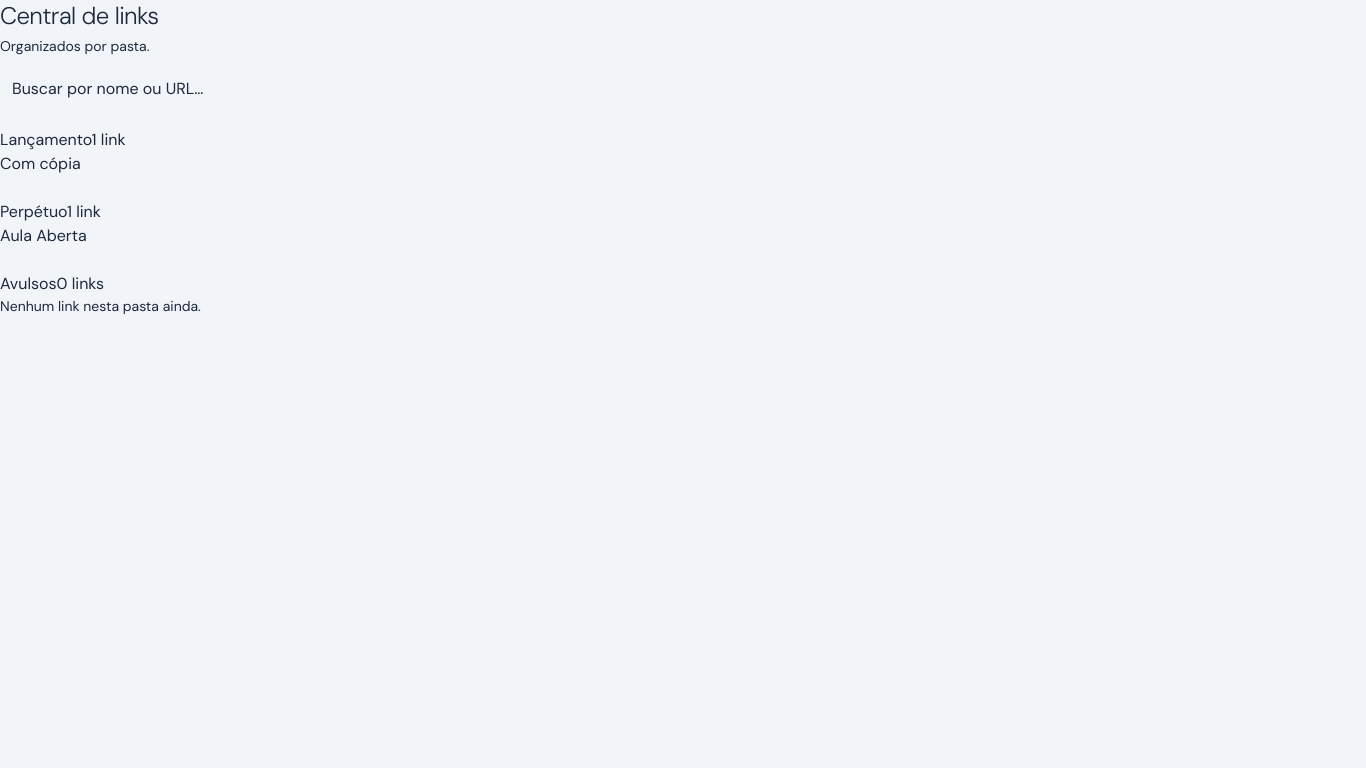
Test: Central de links: página arquivada › falha ao baixar a cópia aparece inline
The width and height of the screenshot is (1366, 768).
Expected: the element named "Pastas" is shown, [0,128,201,315]
What coordinates should you click on to do the following:
click the button "Lançamento1 link"
I would click on:
 (63, 140)
Its box is [0,128,126,152].
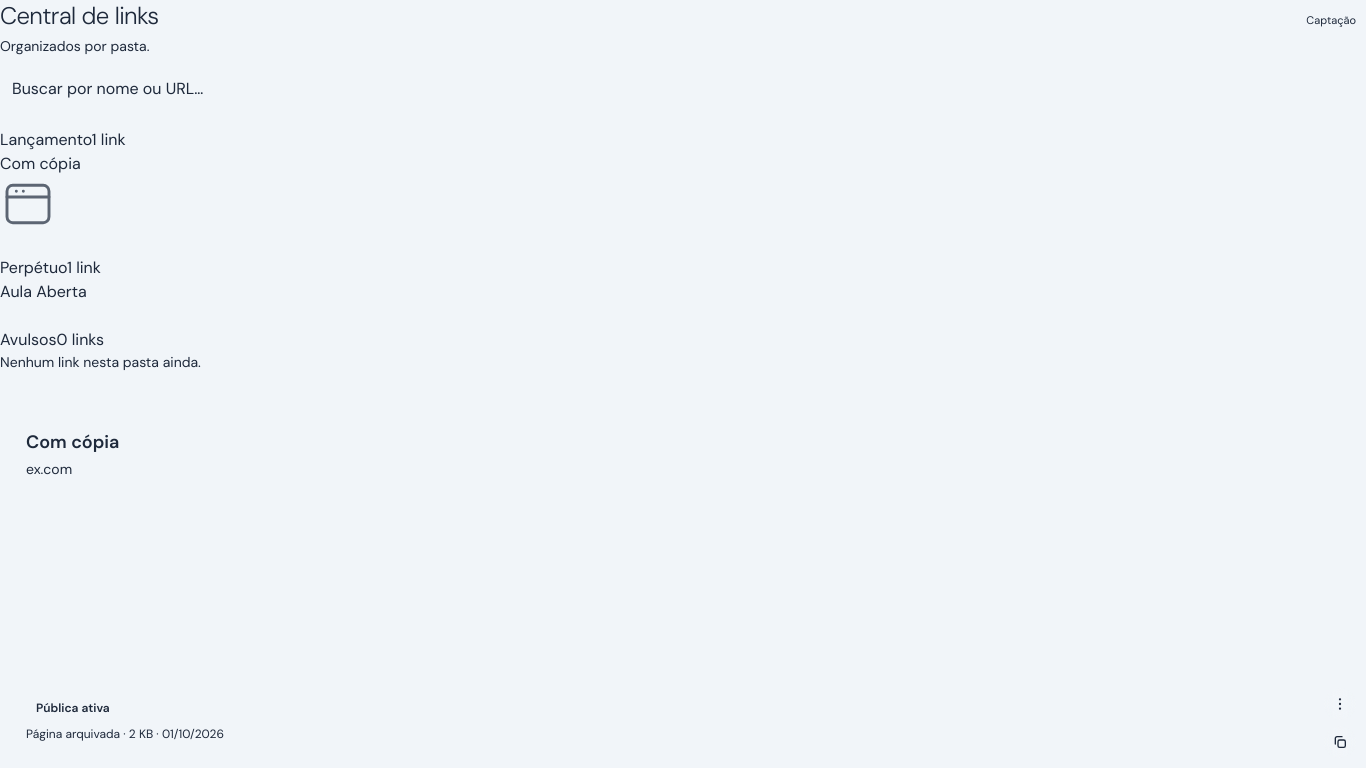
What coordinates should you click on to do the following:
click the button named "Mais ações de Com cópia"
I would click on:
 (1340, 704)
Its box is [1324,688,1356,720].
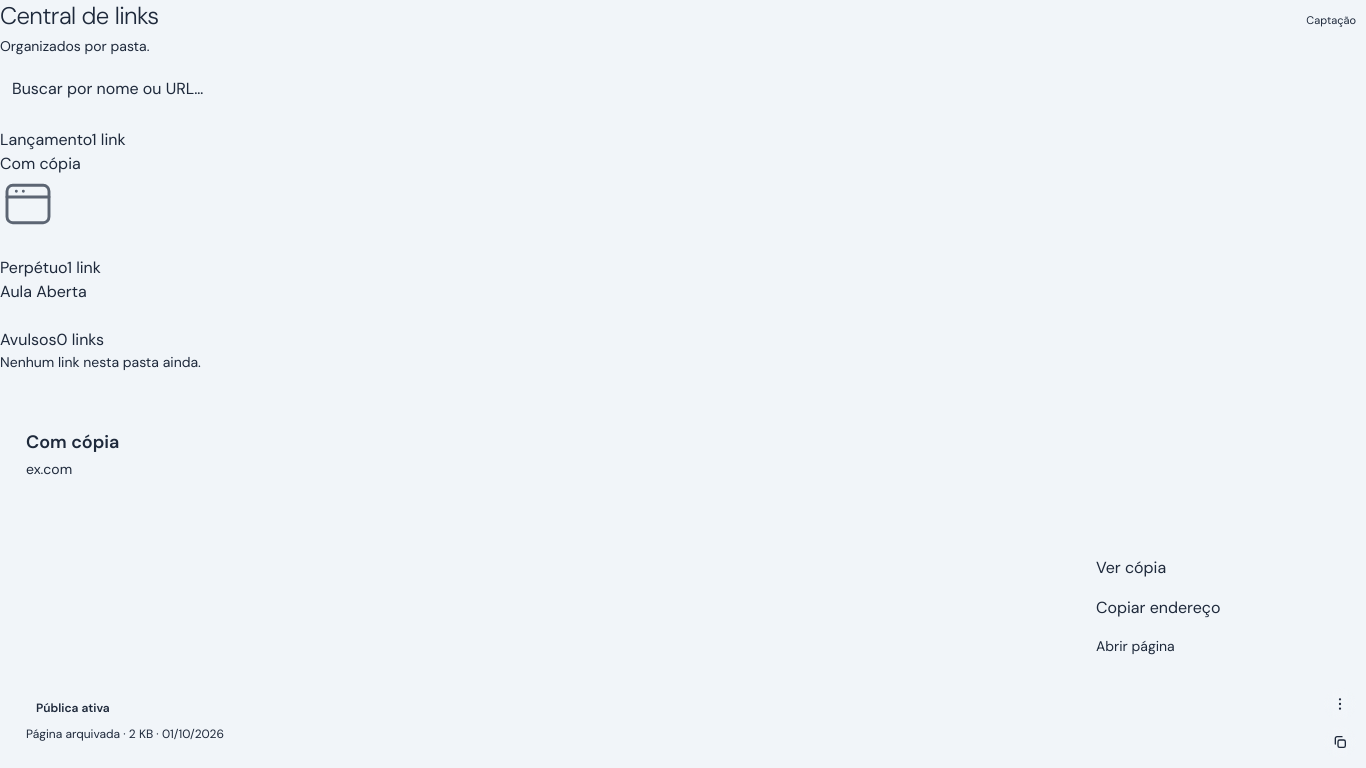
What coordinates should you click on to do the following:
click the button "Ver cópia"
I would click on:
 (1212, 568)
Its box is [1084,548,1340,588].
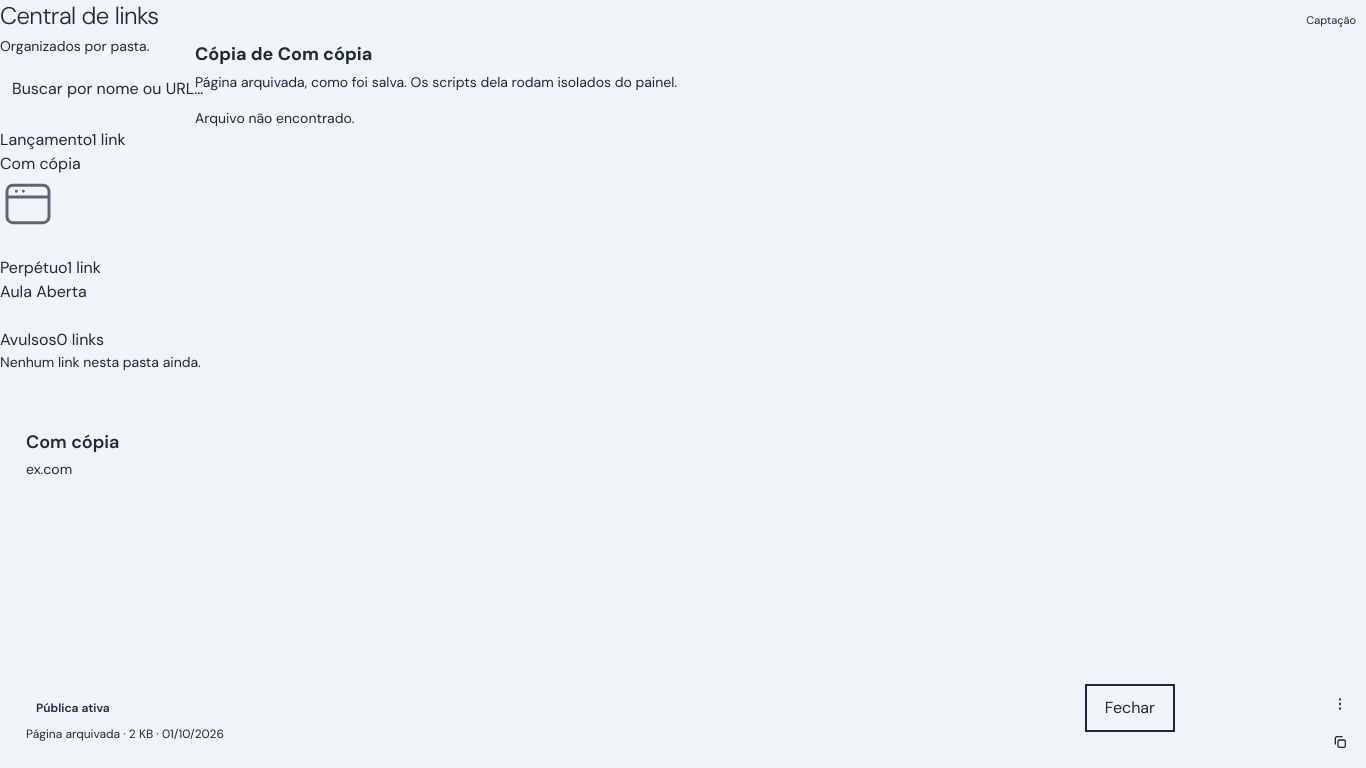
Now the message reads "Arquivo não encontrado.", box [195,109,355,127]
